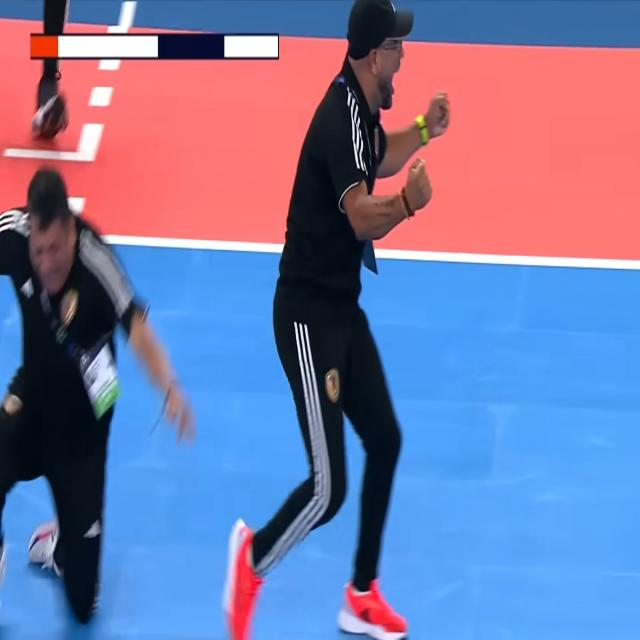Field: (0, 255, 638, 640)
